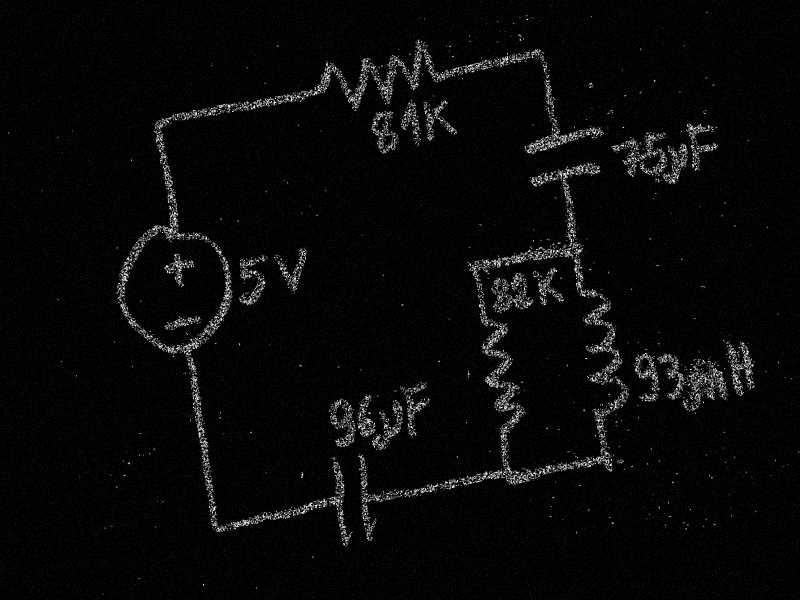-: (160, 310, 205, 334)
1: (394, 96, 427, 153)
2: (508, 269, 536, 312)
3: (655, 349, 688, 402)
5: (231, 249, 277, 310), (639, 123, 674, 181)
6: (351, 392, 379, 440)
7: (609, 134, 650, 185)
8: (366, 106, 403, 157), (486, 273, 516, 316)
9: (322, 395, 361, 451), (628, 349, 663, 406)
F: (398, 379, 438, 439), (684, 116, 724, 175)
H: (721, 333, 760, 398)
V: (269, 244, 317, 298)
k: (420, 92, 461, 148), (531, 265, 566, 310)
m: (684, 363, 731, 410)
u: (372, 399, 410, 450), (666, 142, 693, 183)
